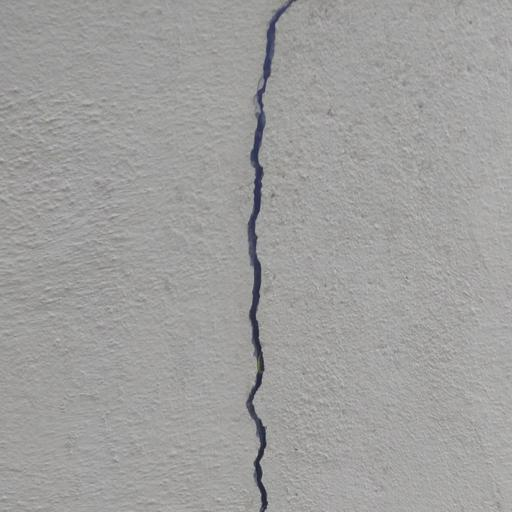major_crack: (238, 0, 301, 512)
